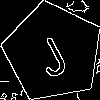J: (27, 27, 72, 80)
